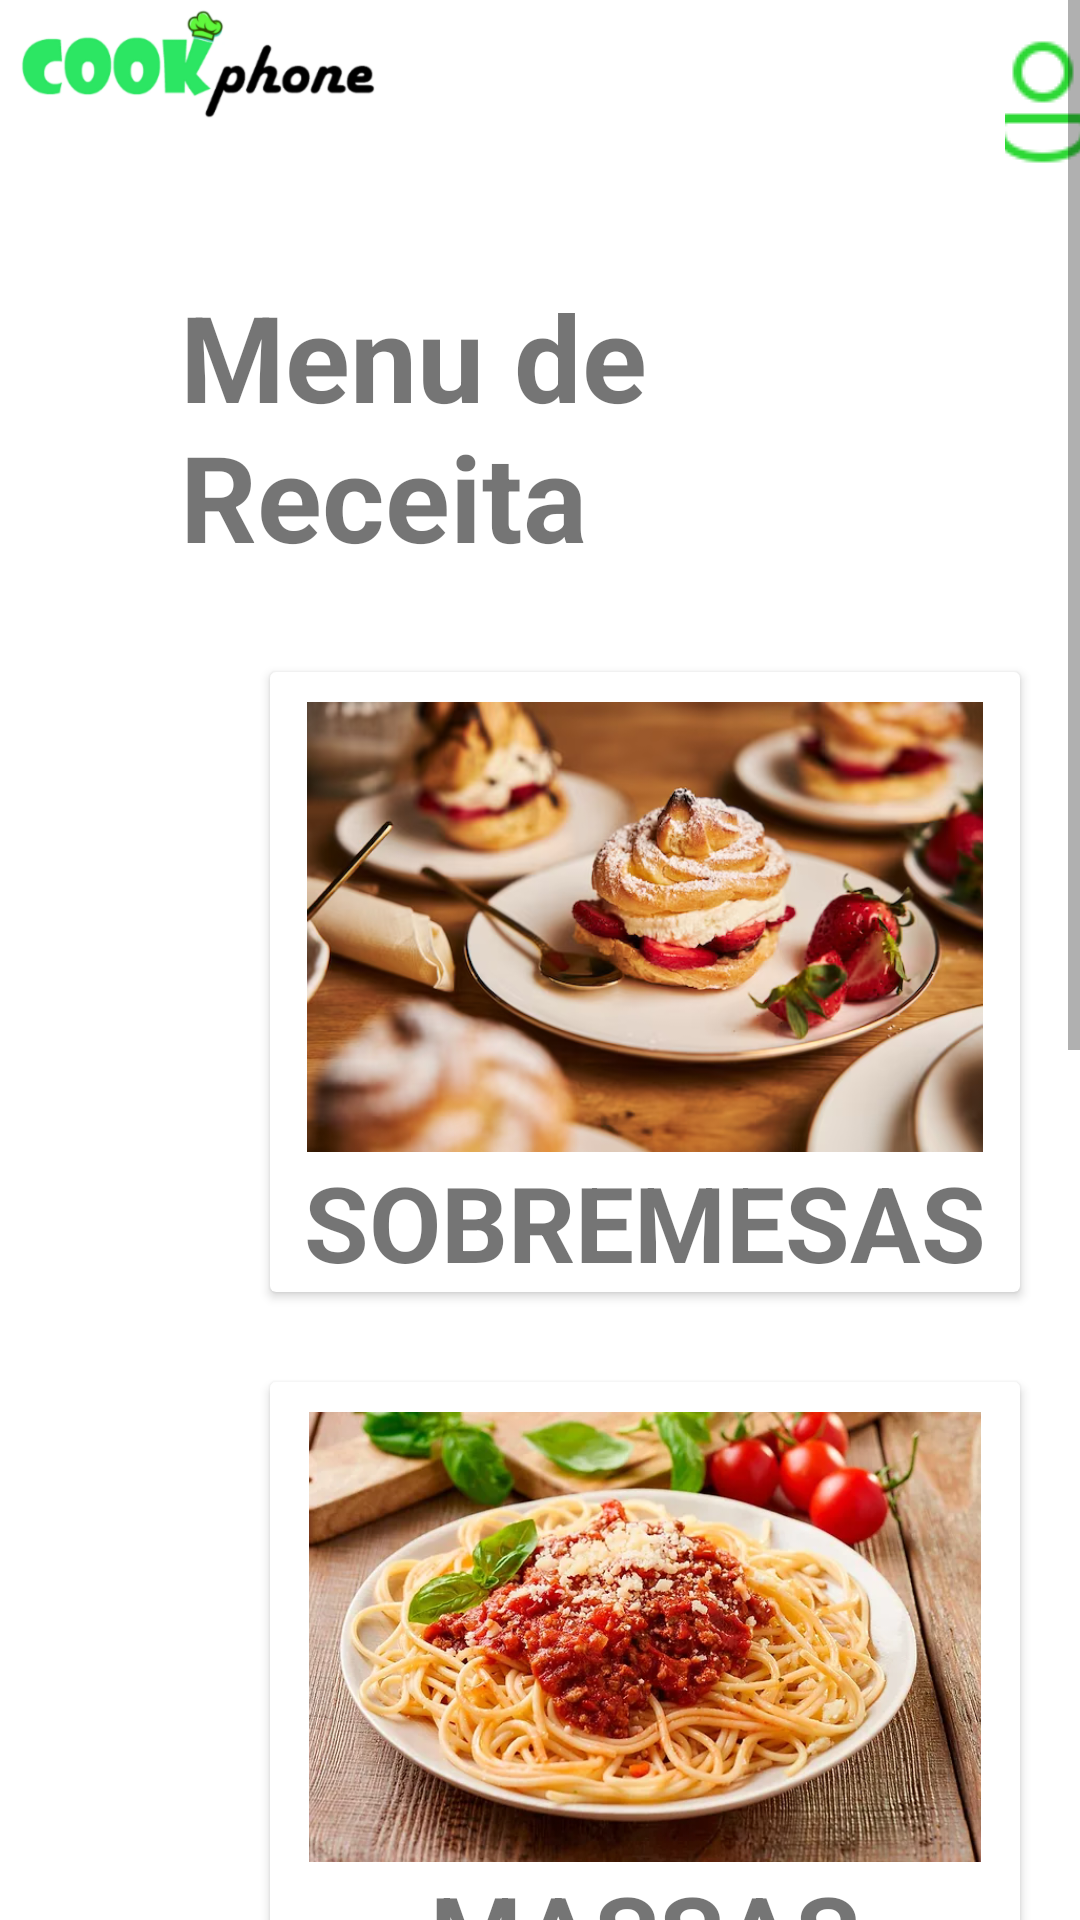

Where to tap for icons on this 1080x1920 app screen, as point (x, y):
perfil: point (1042, 102)
